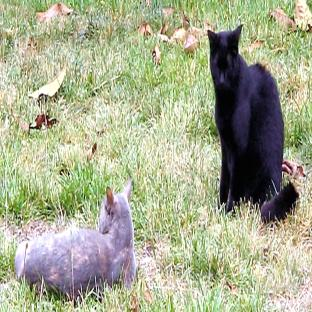Animal: (208, 25, 299, 221), (15, 178, 136, 300)
